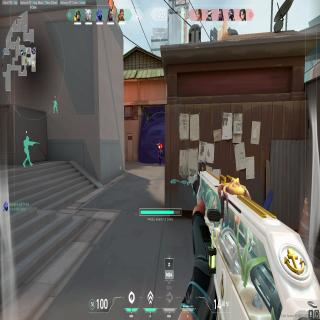ENEMY-HEAD: (159, 139, 161, 143)
